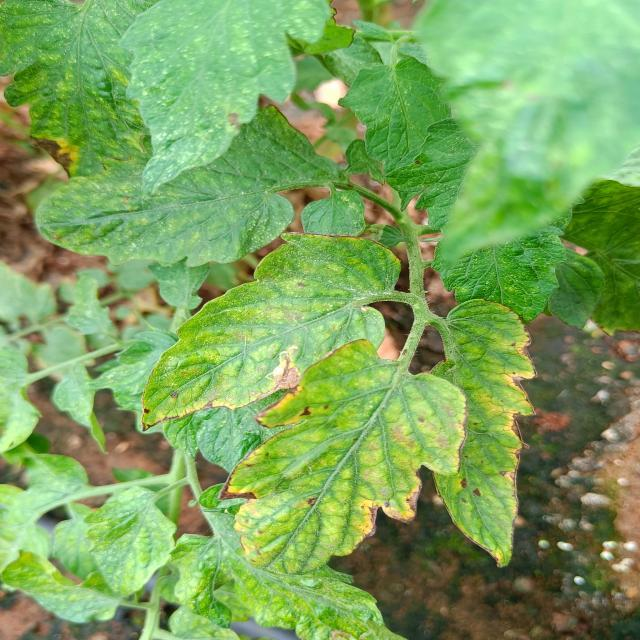Tomato mosaic virus leaf: (210, 338, 468, 576), (452, 296, 542, 568)
